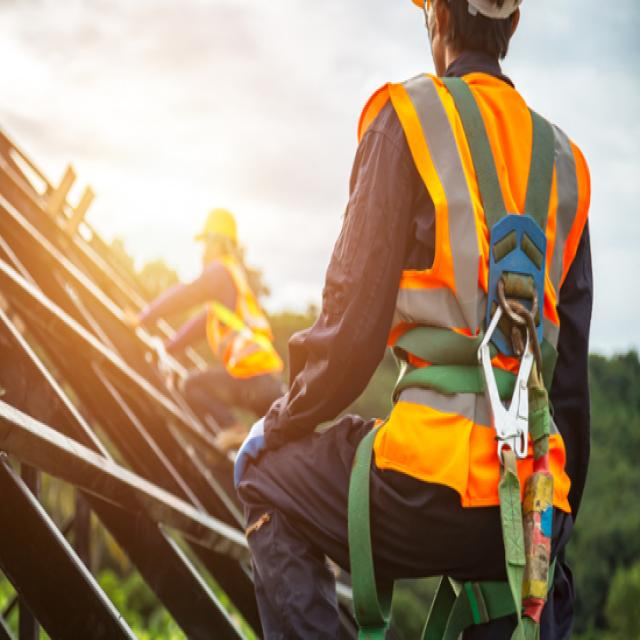gloves: (235, 412, 267, 490)
vest: (354, 70, 571, 519)
